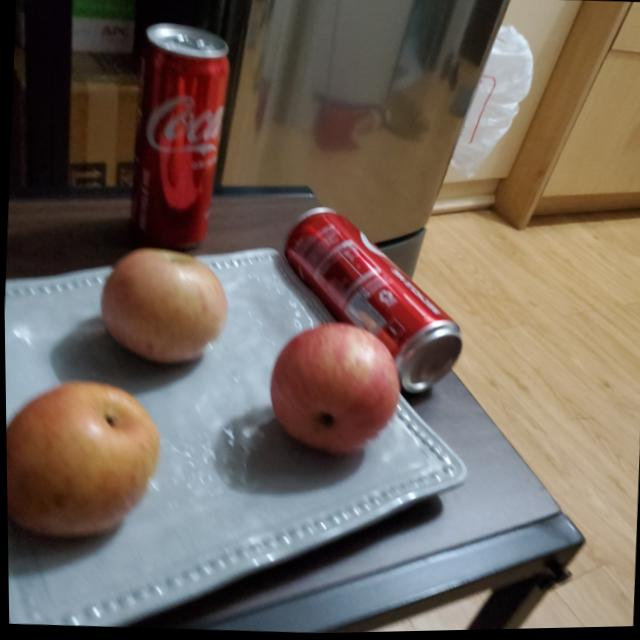apple: (4, 372, 166, 547), (263, 321, 403, 458), (96, 244, 232, 368)
coke: (278, 202, 475, 393), (128, 24, 236, 257)
